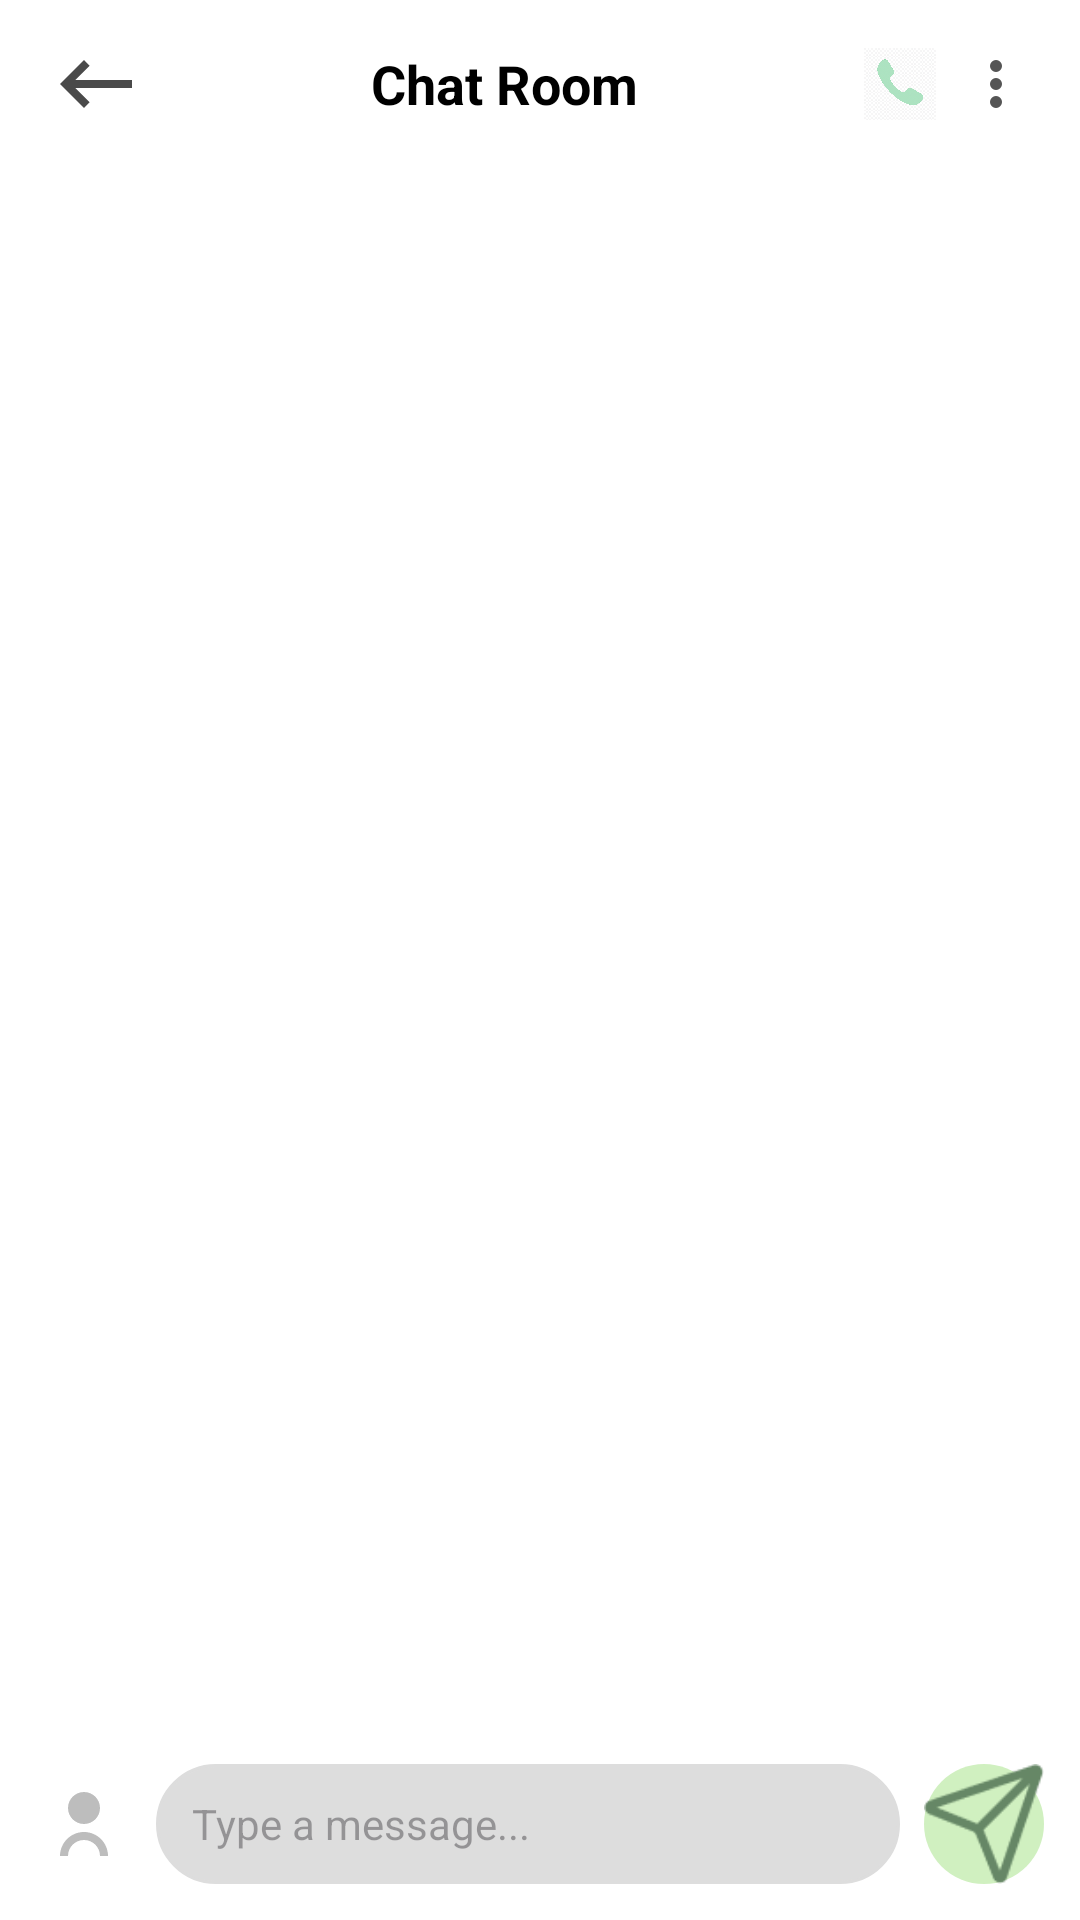

Locate icon controls on the screen. Image size 1080px×1920px, boxes as (x1, y1, x2, y2).
Back: (60, 60, 132, 108)
More: (990, 60, 1002, 108)
profile: (60, 1792, 108, 1856)
Send: (924, 1764, 1044, 1884)
